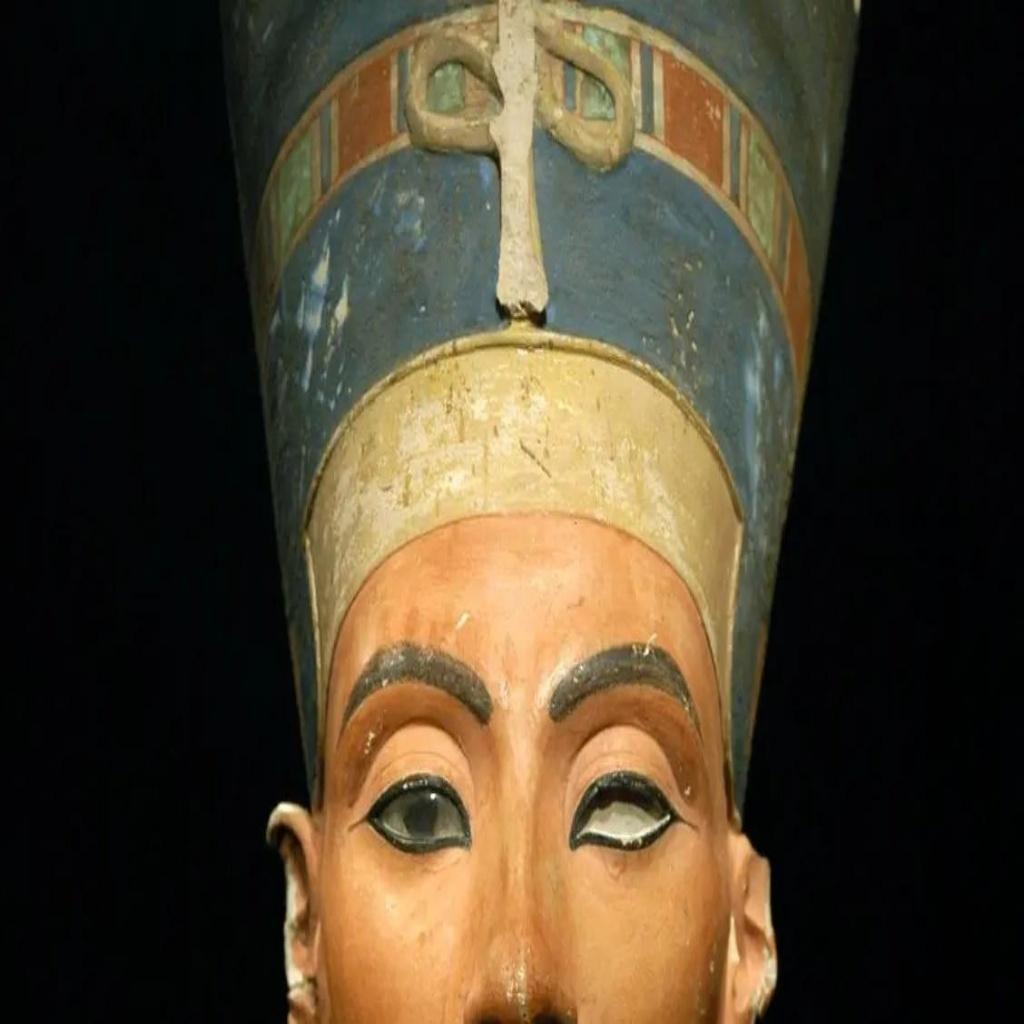Nefertiti: (220, 0, 862, 1019)
